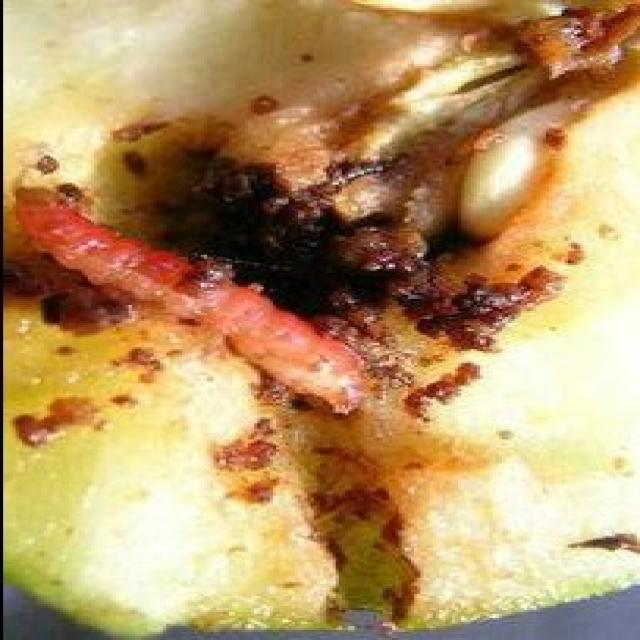peach borer: (12, 186, 373, 418)
